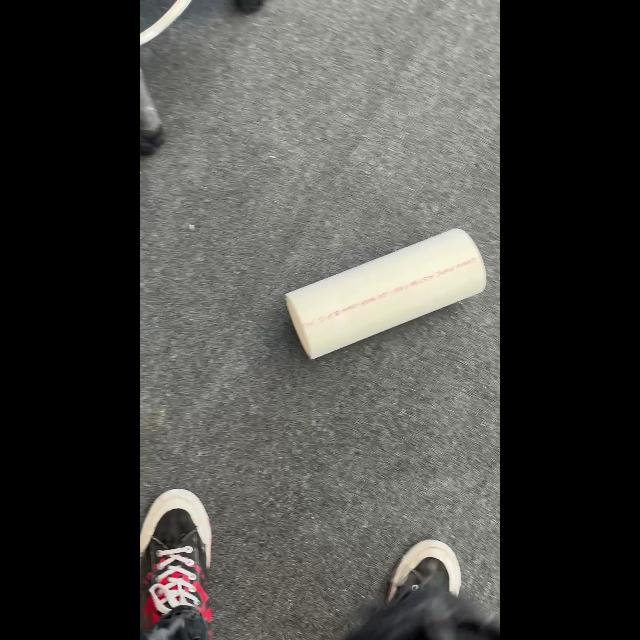CORAL: (285, 226, 487, 360)
